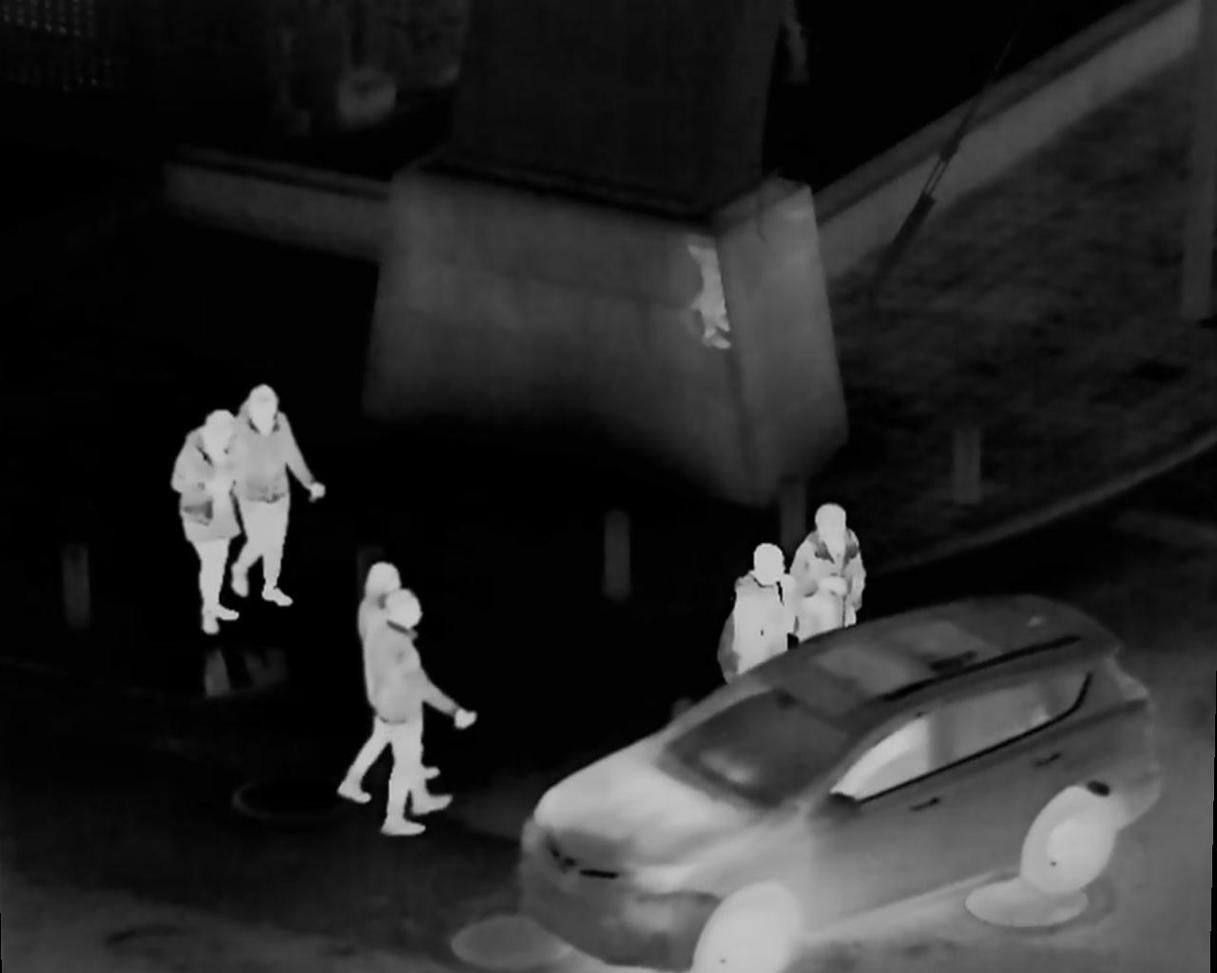person: (232, 381, 319, 615), (373, 586, 451, 841), (174, 412, 255, 621), (348, 560, 415, 805), (722, 538, 796, 699), (794, 506, 860, 648)
